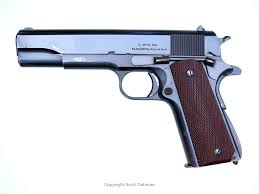gun: (14, 21, 248, 171)
